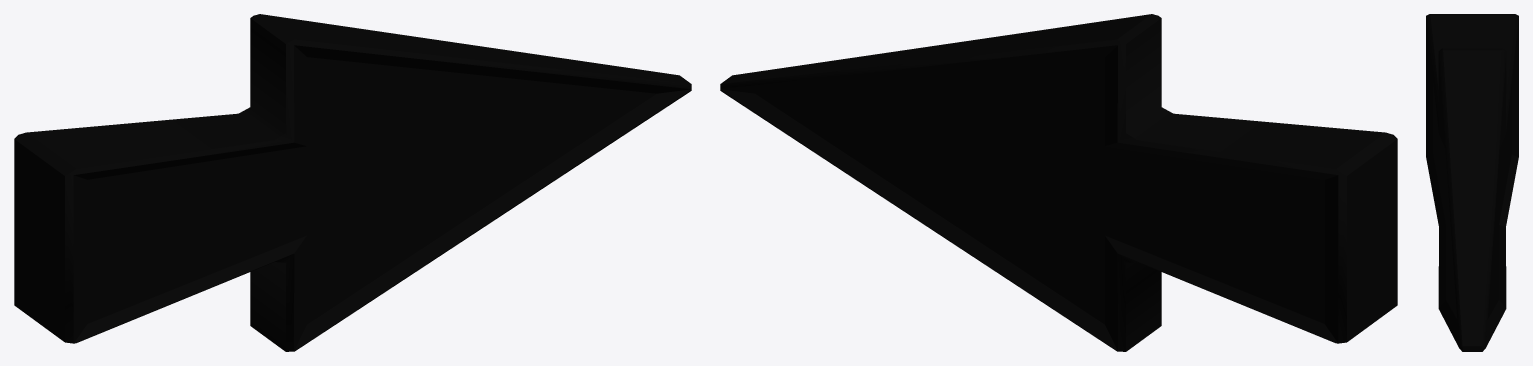
The model's file is Arrow.glb.
3 views of the same model, side by side, from view 1: azimuth 30°, elevation 25°; view 2: azimuth 150°, elevation 25°; view 3: azimuth 270°, elevation 25° (orthographic). The views are drawn at different scales.
Parts seen in each view (by area): view 1: node_id31; view 2: node_id31; view 3: node_id31.
Part boxes in pixels (bbox=[...]): node_id31: bbox=[14, 14, 691, 351]; node_id31: bbox=[720, 14, 1397, 351]; node_id31: bbox=[1426, 14, 1518, 351].
Size of the model in its own units: 0.8964 by 0.4136 by 0.1326.
1 material, 1 textured.
